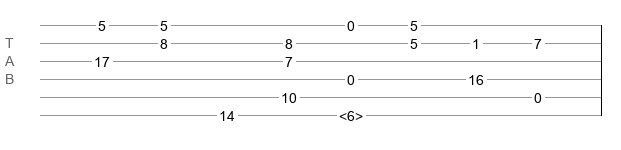0: (347, 72, 355, 82), (347, 18, 355, 28), (534, 90, 542, 100)
1: (472, 36, 480, 46)
10: (281, 90, 297, 100)
14: (219, 108, 235, 118)
16: (468, 72, 484, 82)
17: (94, 54, 110, 64)
5: (98, 18, 106, 28), (160, 18, 168, 28), (410, 18, 418, 28), (410, 36, 418, 46)
7: (285, 54, 293, 64), (534, 36, 542, 46)
8: (160, 36, 168, 46), (285, 36, 293, 46)
harmonic: (339, 108, 363, 118)
